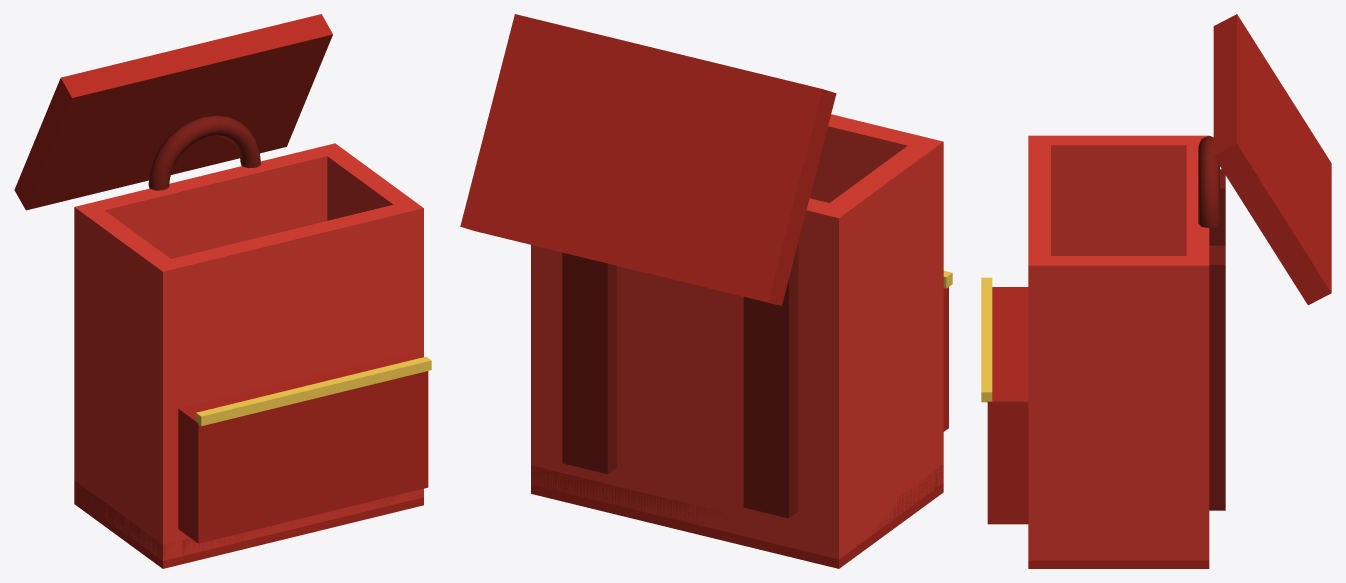
The model's file is gobag.fbx.
3 renders of one model, left to right at view 1: azimuth 30°, elevation 25°; view 2: azimuth 150°, elevation 25°; view 3: azimuth 270°, elevation 25°, orthographic. The views are drawn at different scales.
Parts seen in each view (by area): view 1: M__gobag; view 2: M__gobag; view 3: M__gobag.
Boxes of the visible parts, left/top/right/bottom form: M__gobag: left=14, top=14, right=431, bottom=568; M__gobag: left=460, top=14, right=952, bottom=568; M__gobag: left=981, top=14, right=1331, bottom=568.
Bounding box in the file's own units: 0.34 × 0.5185 × 0.3873.
